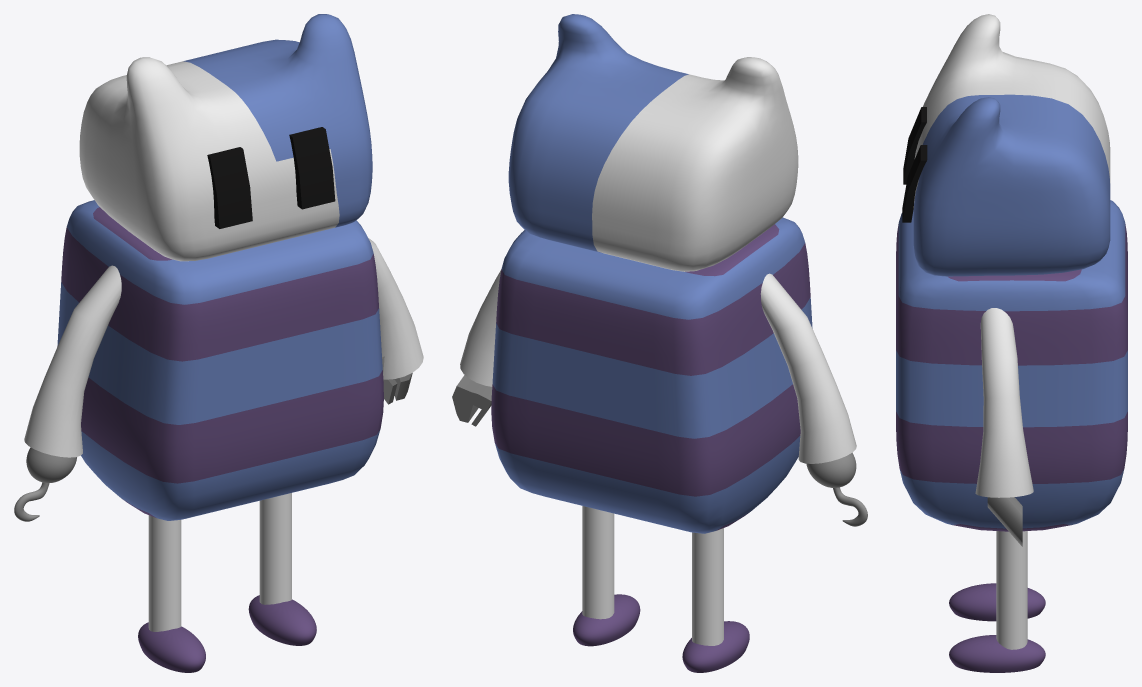
File: jamcharacter2.fbx
The picture shows the model from 3 angles, left to right: view 1: azimuth 30°, elevation 25°; view 2: azimuth 150°, elevation 25°; view 3: azimuth 270°, elevation 25°; orthographic projection. The views are drawn at different scales.
Parts seen in each view (by area): view 1: torso, head, rightarm, rightleg, leftarm, leftleg, lefteye, right_eye, leftfoot, rightfoot, righthand, lefthand; view 2: torso, head, rightarm, rightleg, leftleg, leftarm, leftfoot, rightfoot, lefthand, righthand; view 3: torso, head, leftarm, leftleg, leftfoot, rightfoot, lefthand, lefteye, right_eye.
Boxes of the visible parts, <box> form: torso: <box>57,200,383,520</box>; head: <box>79,14,372,261</box>; rightarm: <box>24,265,121,457</box>; rightleg: <box>148,515,181,631</box>; leftarm: <box>368,238,423,379</box>; leftleg: <box>259,493,291,604</box>; lefteye: <box>289,127,335,209</box>; right_eye: <box>207,147,252,228</box>; leftfoot: <box>248,595,316,645</box>; rightfoot: <box>138,622,205,672</box>; righthand: <box>26,447,76,482</box>; lefthand: <box>382,356,412,404</box>; torso: <box>491,217,812,533</box>; head: <box>508,14,798,271</box>; rightarm: <box>760,273,856,463</box>; rightleg: <box>692,528,723,645</box>; leftleg: <box>582,506,614,619</box>; leftarm: <box>460,270,501,386</box>; leftfoot: <box>573,594,640,646</box>; rightfoot: <box>682,621,749,672</box>; lefthand: <box>452,375,492,426</box>; righthand: <box>806,452,856,487</box>; torso: <box>896,200,1127,531</box>; head: <box>913,14,1110,276</box>; leftarm: <box>975,308,1033,497</box>; leftleg: <box>996,531,1027,649</box>; leftfoot: <box>949,635,1045,672</box>; rightfoot: <box>949,583,1045,621</box>; lefthand: <box>987,497,1022,546</box>; lefteye: <box>902,145,927,222</box>; right_eye: <box>903,107,926,184</box>.
Bounding box in the file's own units: 6.53 × 9.27 × 3.36.
